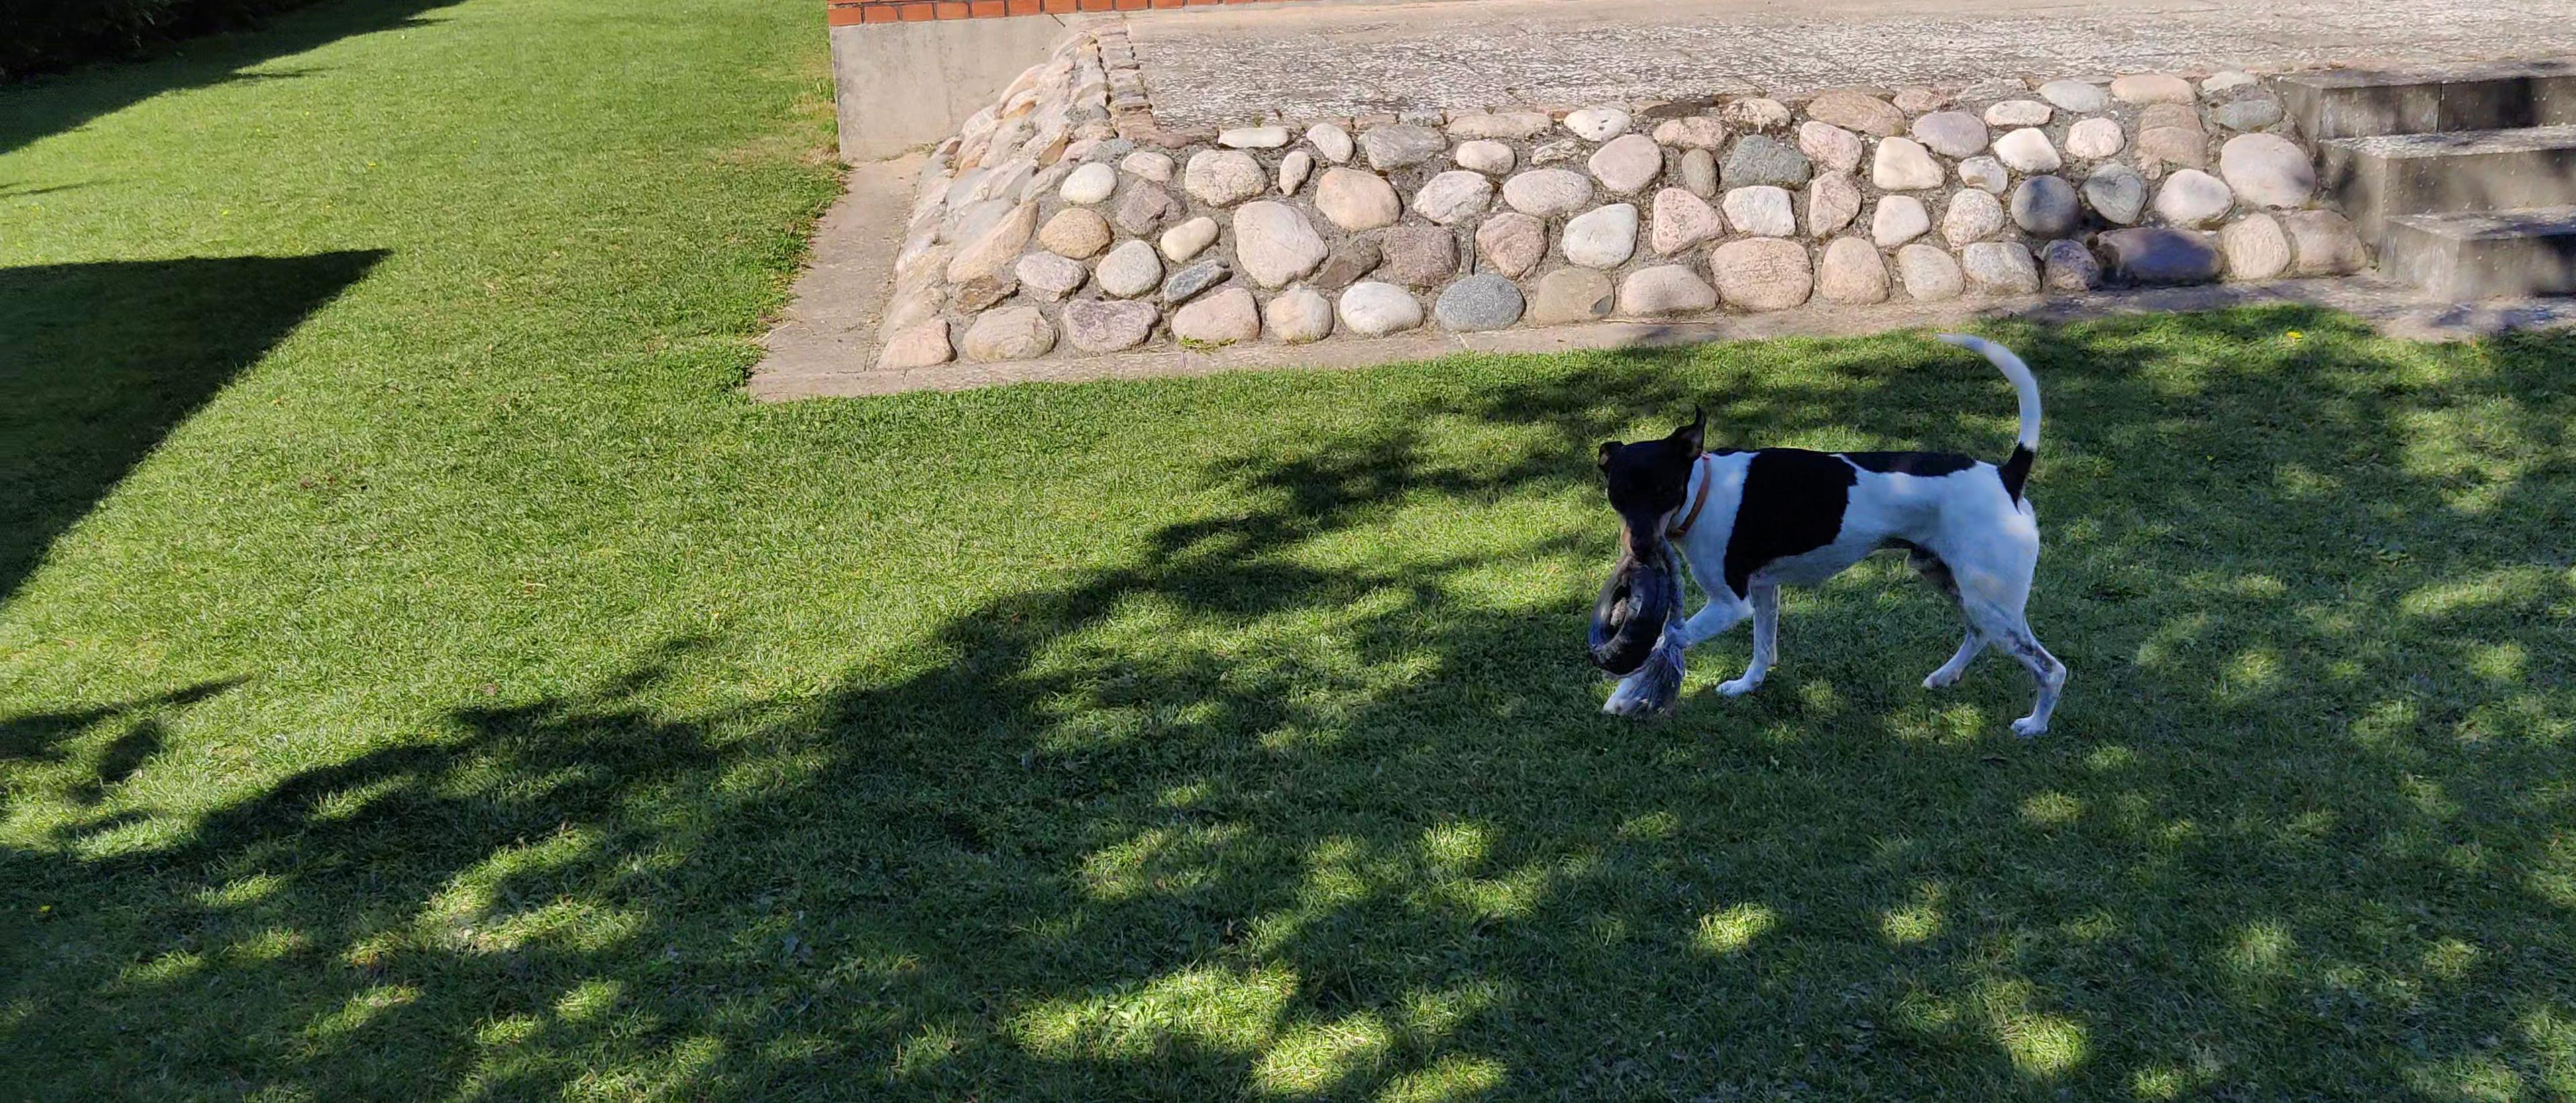Dog: (1590, 327, 2070, 736)
